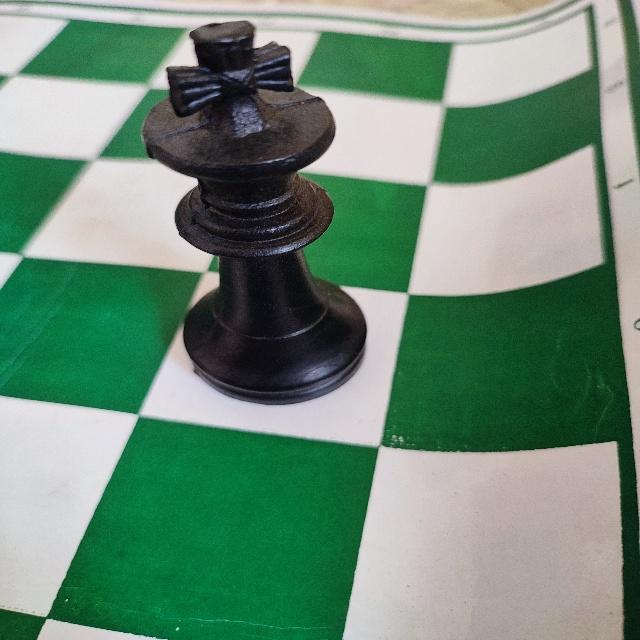King: (138, 16, 372, 408)
